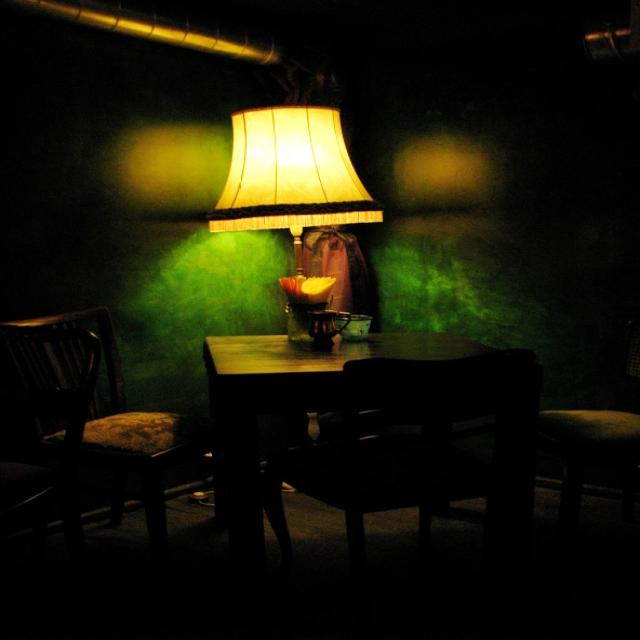Table: (169, 274, 519, 503)
chair: (15, 279, 223, 509), (323, 344, 558, 545)
